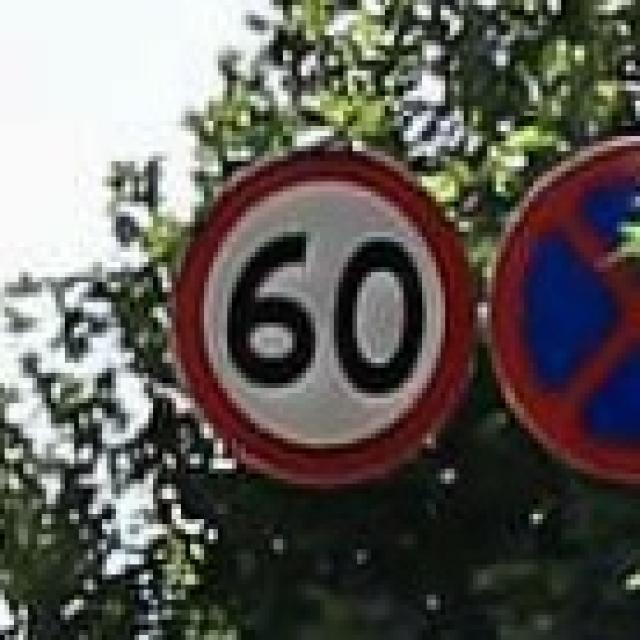Speed Limit -60-: (222, 232, 428, 396)
